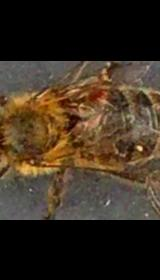varroa_mite: (84, 82, 114, 112)
